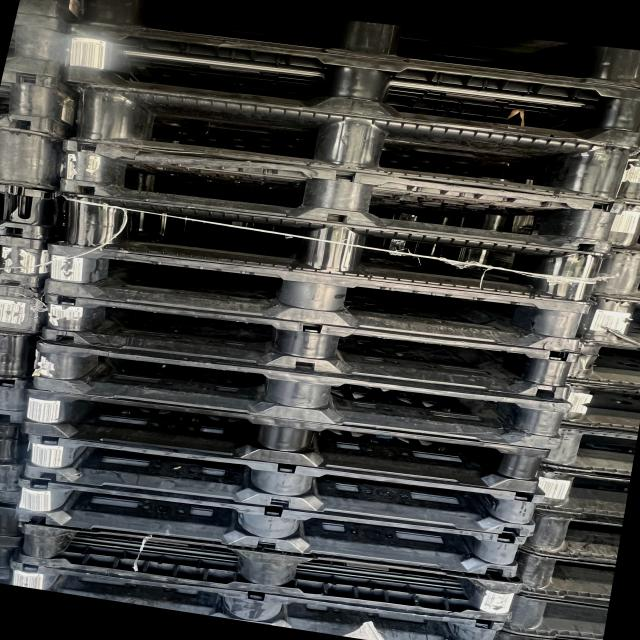igps: (58, 17, 640, 154), (55, 134, 630, 262), (64, 80, 640, 207), (49, 187, 614, 310), (39, 239, 602, 357), (36, 290, 584, 408), (26, 335, 575, 452), (14, 385, 554, 499), (18, 427, 542, 541), (10, 472, 531, 584), (11, 516, 528, 626), (70, 0, 639, 94), (5, 552, 508, 640), (510, 544, 620, 610), (516, 505, 628, 568), (522, 461, 634, 522), (0, 67, 84, 143), (532, 420, 640, 479), (494, 587, 614, 640), (0, 10, 76, 83), (0, 180, 77, 249), (552, 375, 640, 434), (0, 123, 72, 195), (559, 336, 640, 388), (0, 322, 53, 396), (574, 291, 640, 348), (0, 282, 53, 348), (0, 242, 57, 303), (584, 242, 640, 302), (0, 371, 38, 429), (604, 196, 640, 253), (0, 451, 29, 511), (0, 531, 30, 587), (0, 418, 32, 469), (0, 498, 32, 542)
